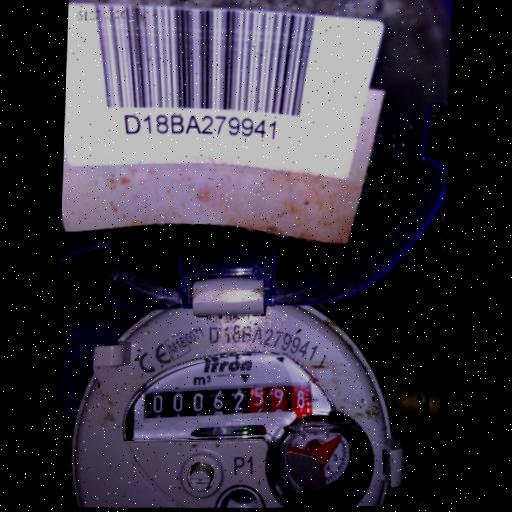0: (147, 392, 168, 418), (168, 391, 189, 417), (187, 390, 208, 416)
2: (227, 389, 248, 414)
5: (247, 385, 268, 413)
6: (206, 388, 229, 415)
8: (286, 385, 313, 420)
9: (266, 385, 289, 411)
border_water_meter_number: (138, 376, 317, 436)
